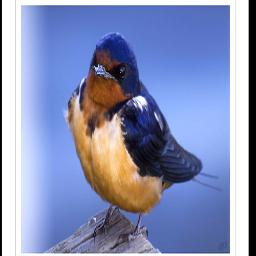Swallow: (63, 29, 224, 250)
